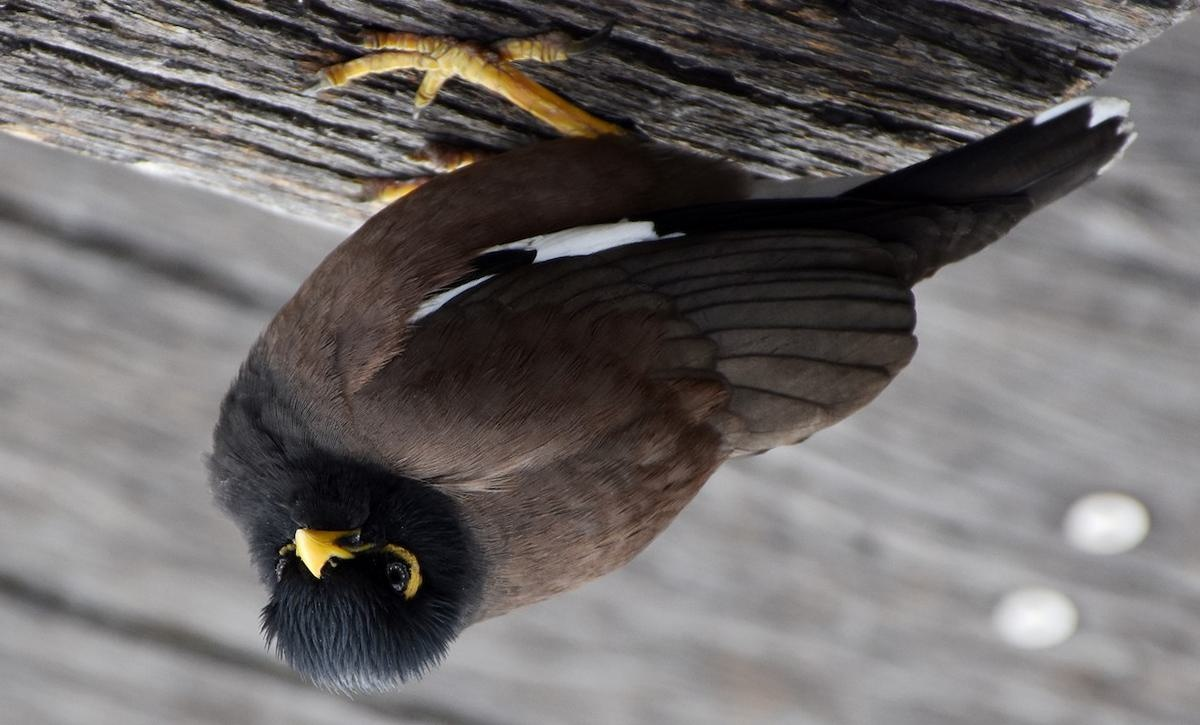myna: (219, 57, 1081, 682)
